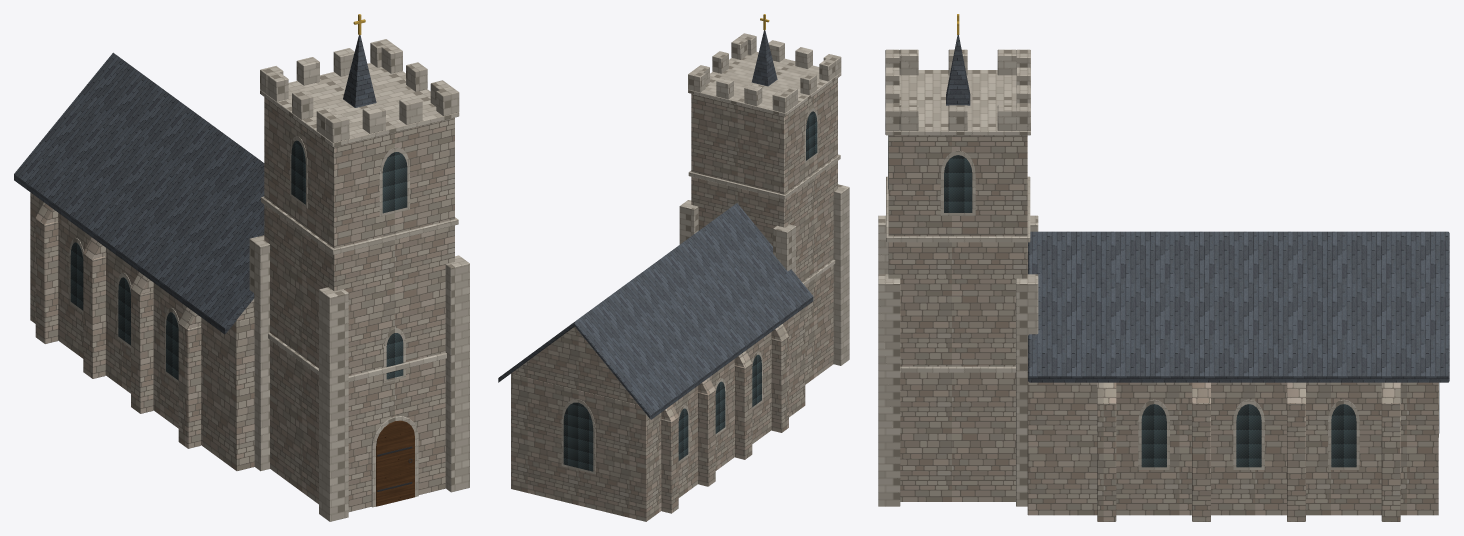
File: stone-church.glb
3 views of the same model, side by side, from view 1: azimuth 30°, elevation 25°; view 2: azimuth 150°, elevation 25°; view 3: azimuth 270°, elevation 25° (orthographic). The views are drawn at different scales.
Parts seen in each view (by area): view 1: Stone_Church; view 2: Stone_Church; view 3: Stone_Church.
Part boxes in pixels (left/top/right/bottom): Stone_Church: left=14, top=14, right=469, bottom=521; Stone_Church: left=498, top=14, right=849, bottom=521; Stone_Church: left=878, top=14, right=1449, bottom=521.
Bounding box in the file's own units: 7.4 × 16.01 × 18.08.
Materials: 7 (5 with a texture image).
